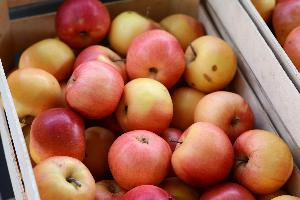apple: (0, 0, 298, 200)
